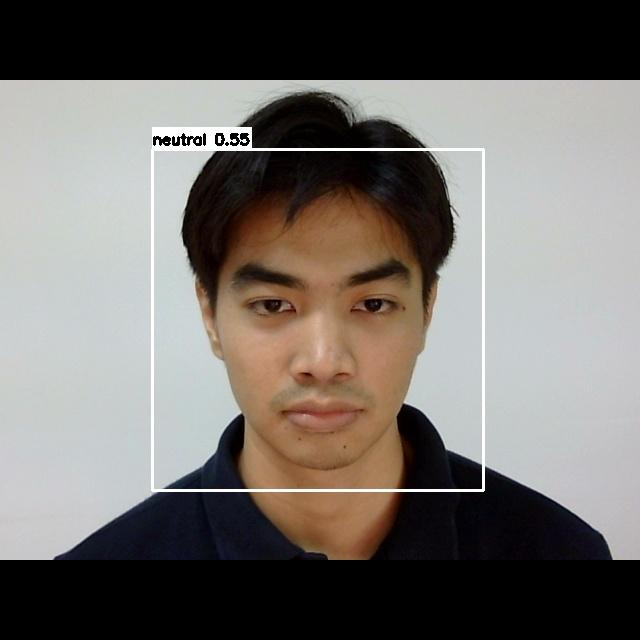Natural: (216, 242, 437, 449)
